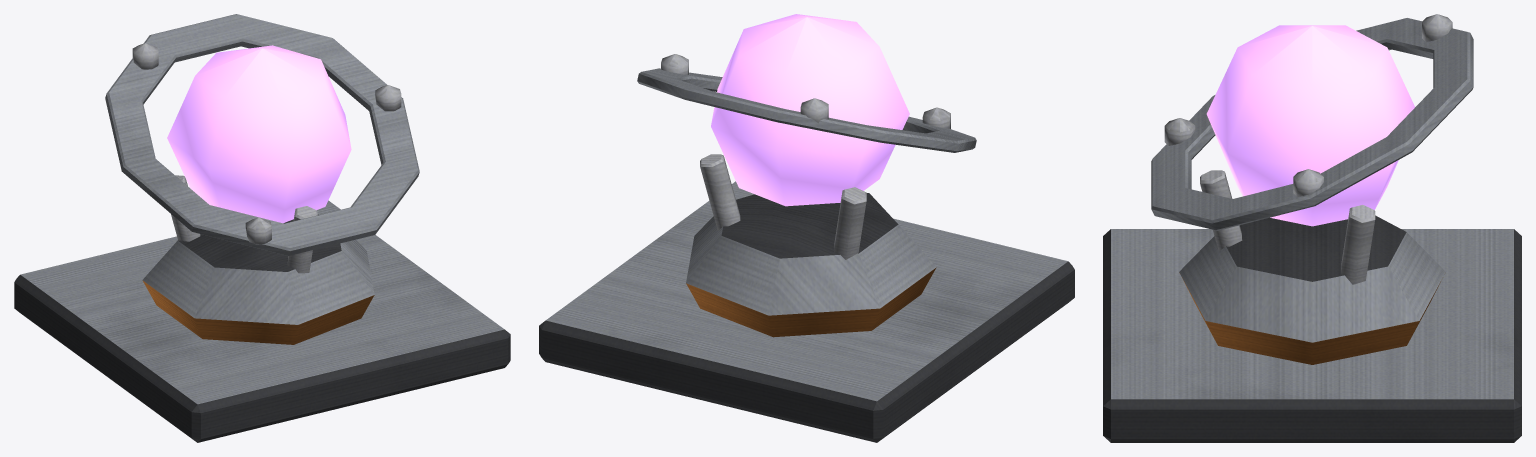
File: R4X_OrbAmplifier_LOD1.glb
The picture shows the model from 3 angles, left to right: view 1: azimuth 30°, elevation 25°; view 2: azimuth 150°, elevation 25°; view 3: azimuth 270°, elevation 25°; orthographic projection. The views are drawn at different scales.
Parts seen in each view (by area): view 1: R4X_OrbAmplifier_LOD1; view 2: R4X_OrbAmplifier_LOD1; view 3: R4X_OrbAmplifier_LOD1.
Part boxes in pixels (bbox=[...]): R4X_OrbAmplifier_LOD1: bbox=[14, 14, 510, 442]; R4X_OrbAmplifier_LOD1: bbox=[539, 14, 1074, 442]; R4X_OrbAmplifier_LOD1: bbox=[1103, 14, 1521, 442].
Bounding box in the file's own units: 0.52 × 0.455 × 0.52.
5 materials, 4 textured.
